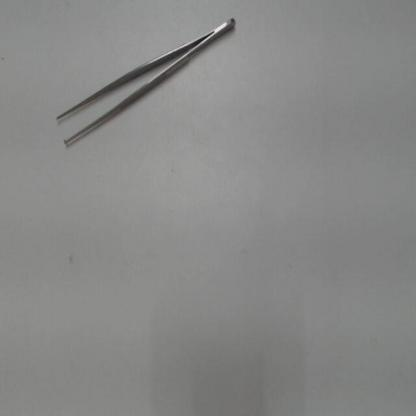Gillies Toothed Dissector: (51, 8, 249, 152)
